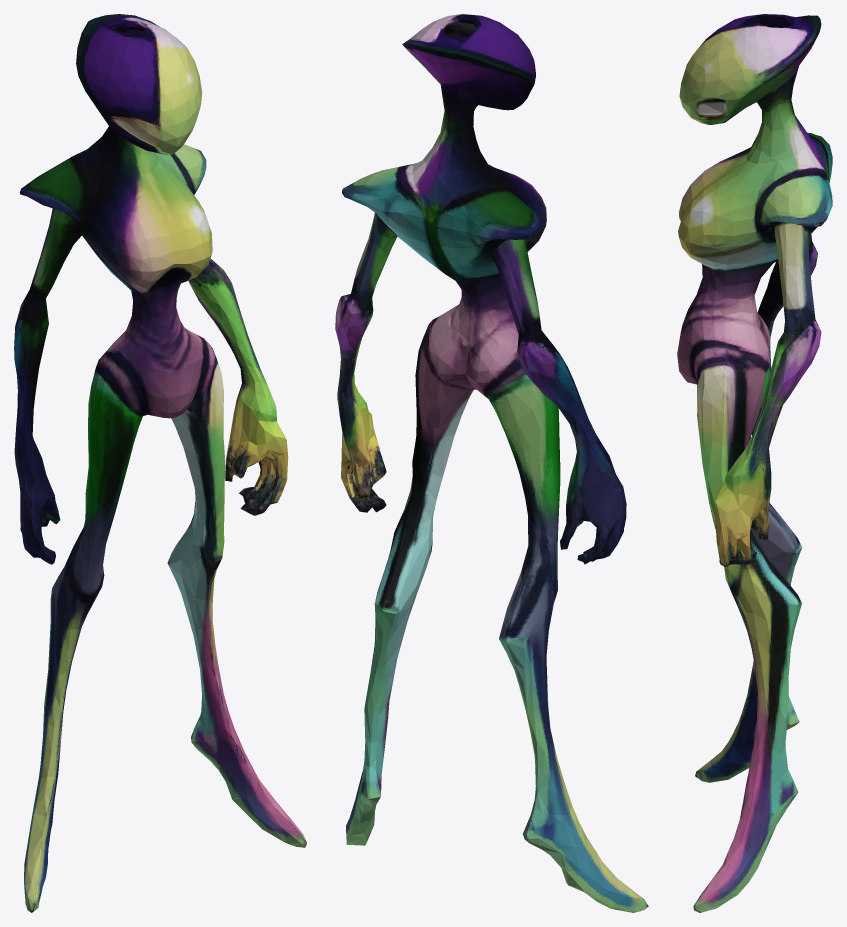
The model's file is alien_grunt.glb.
3 renders of one model, left to right at view 1: azimuth 30°, elevation 25°; view 2: azimuth 150°, elevation 25°; view 3: azimuth 270°, elevation 25°, orthographic. The views are drawn at different scales.
Visible parts, largest first — view 1: geometry_0; view 2: geometry_0; view 3: geometry_0.
Part boxes in pixels (x1,y1,x2,y2): geometry_0: (14,14,306,912); geometry_0: (335,14,648,912); geometry_0: (677,14,832,912).
Bounding box in the file's own units: 0.6327 × 1.8 × 0.3074.
Materials: 1 (1 with a texture image).
